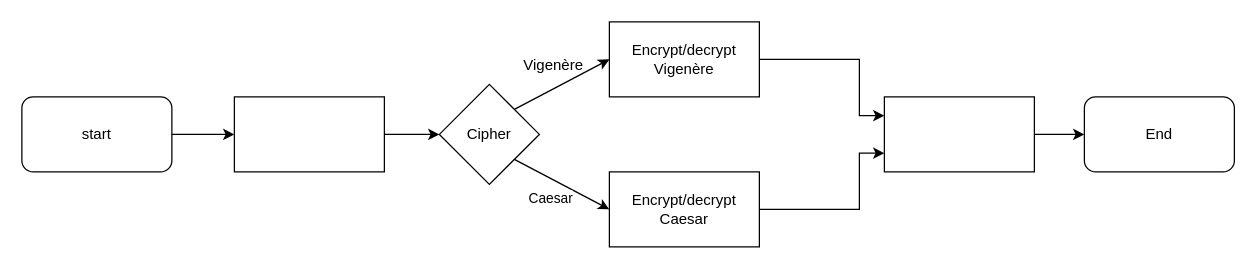
Image size: 1256x269. Some labels were removed from this diagram. The box of each missing label's shape, as (x1, y1, x2, y2) in pixels:
Analyser CLI args: (233, 96, 384, 172)
Print results: (883, 96, 1034, 172)
